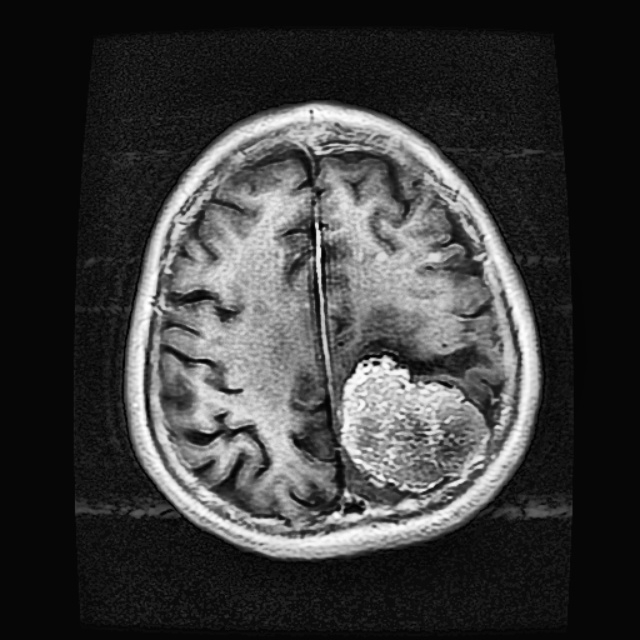Glioma: (343, 353, 487, 490)
